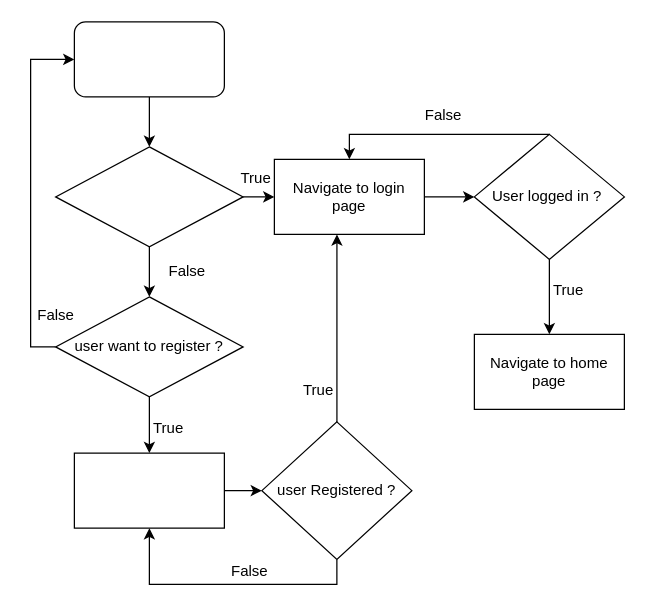
Image size: 646x616. Some labels were removed from this diagram. The shapes that lost their labels are listed below. From the top down, each one's centre as x and y in pixels, then its label:
point 148,59: Start Screen
point 148,196: user want to login ?
point 148,490: Navigate to register
